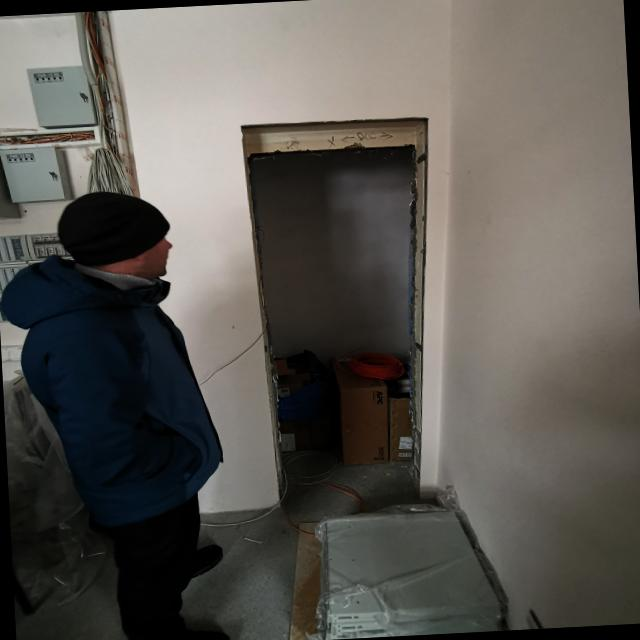NoHelmet: (55, 188, 181, 287)
